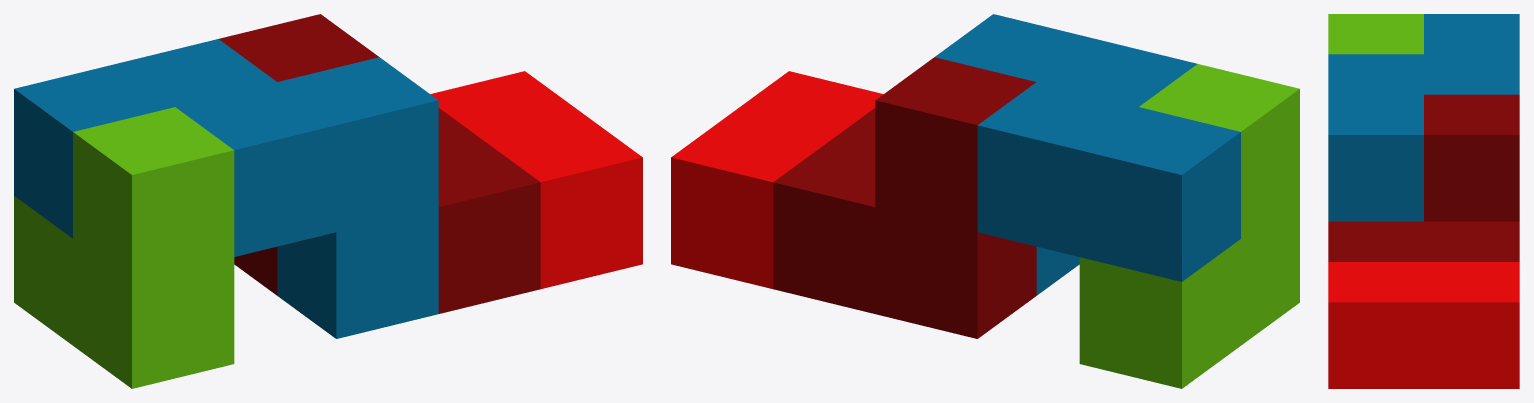
3 views of the same model, side by side, from view 1: azimuth 30°, elevation 25°; view 2: azimuth 150°, elevation 25°; view 3: azimuth 270°, elevation 25° (orthographic). The views are drawn at different scales.
Parts seen in each view (by area): view 1: mergedBlocks(Clone); view 2: mergedBlocks(Clone); view 3: mergedBlocks(Clone).
Boxes of the visible parts, box(x1,y1,x2,y2) form: mergedBlocks(Clone): box(14, 14, 642, 388); mergedBlocks(Clone): box(671, 14, 1299, 388); mergedBlocks(Clone): box(1328, 14, 1519, 388).
Bounding box in the file's own units: 5 × 2 × 2.
Materials: 4 (4 with a texture image).
